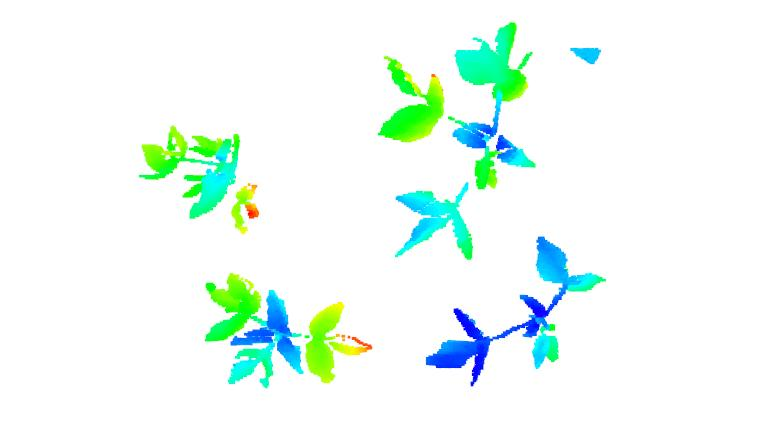mungbean: (380, 16, 542, 263), (422, 236, 608, 389), (197, 273, 380, 396), (141, 122, 268, 241)
